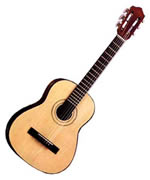guitar: (5, 5, 146, 175)
